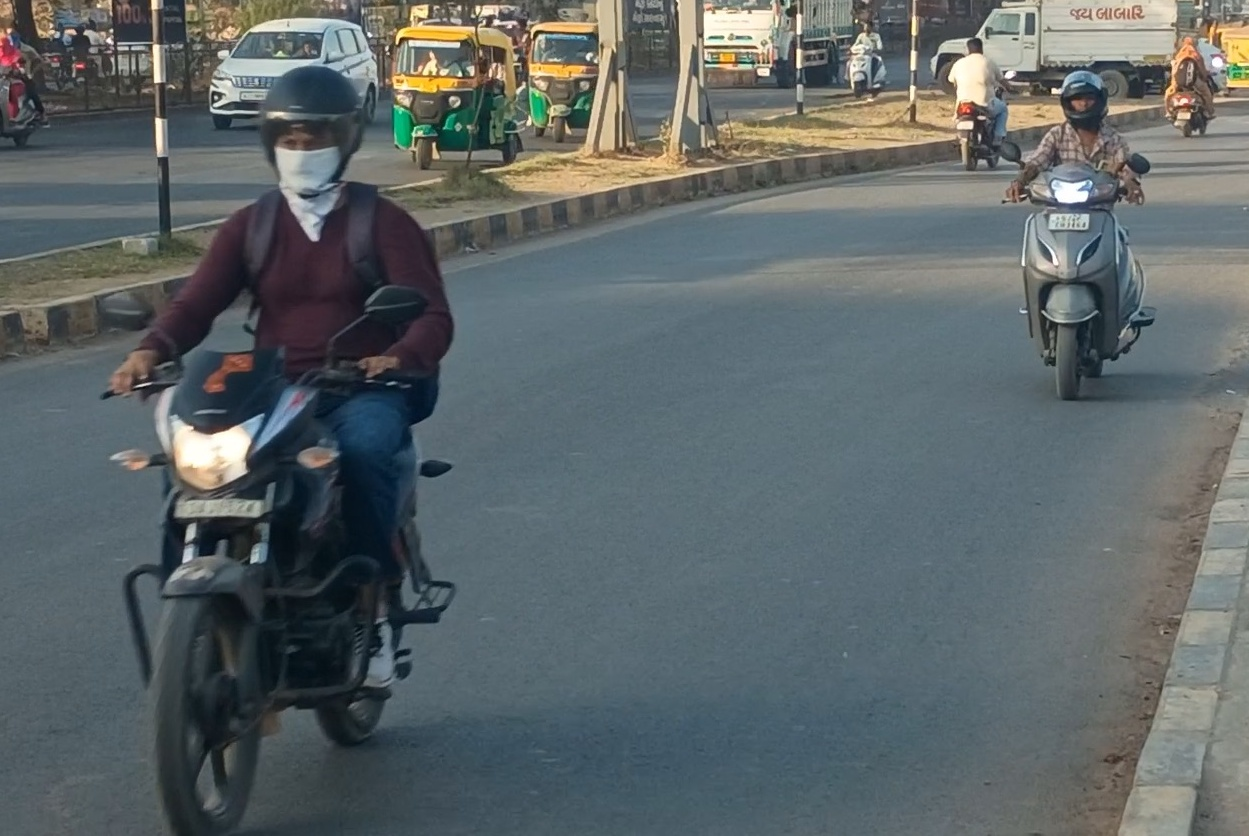BikeWithRider: (80, 58, 486, 836), (982, 60, 1170, 408), (939, 30, 1021, 176), (1156, 29, 1223, 142), (0, 17, 53, 153), (838, 14, 891, 102)
Helmet: (243, 61, 373, 204), (1048, 64, 1116, 134)
NoHelmet: (963, 34, 987, 62), (1179, 30, 1203, 53)
